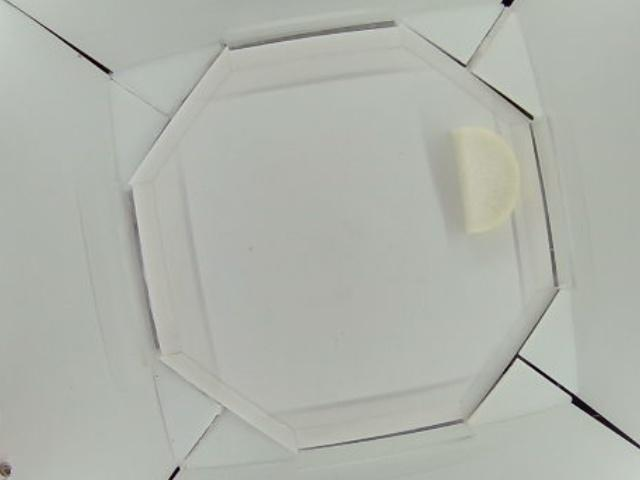Mooli: (448, 128, 524, 231)
